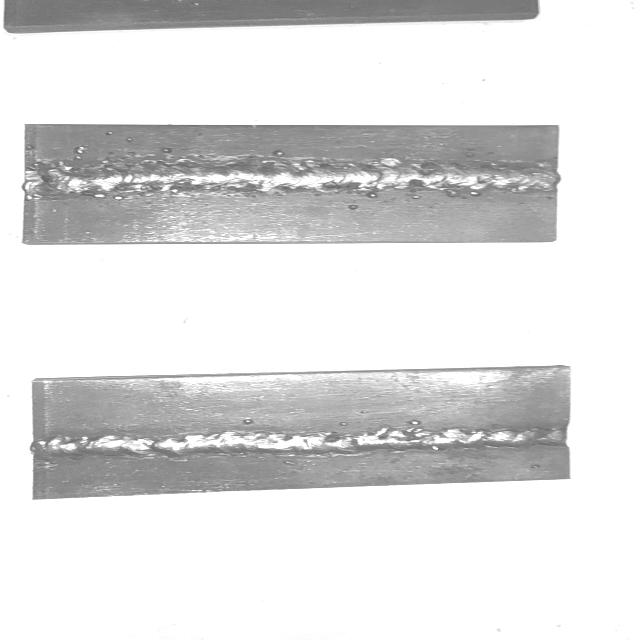Bad Weld: (26, 160, 556, 202)
Defect: (25, 148, 88, 208)
Good Weld: (40, 427, 562, 458)
